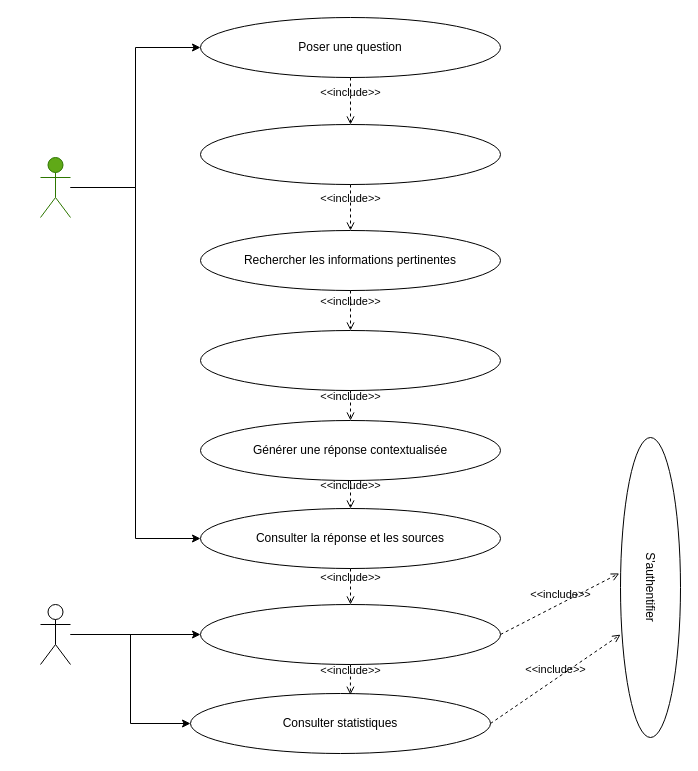
Image size: 698x771. Some labels were removed from this diagram. Here are the shapes that lost their labels. From the top down, the box of each, then its label:
(200, 124, 500, 184): Analyser la question
(200, 330, 500, 390): Récupérer les passages pertinents
(40, 604, 70, 664): Administrateur
(200, 604, 500, 664): Gérer les documents
